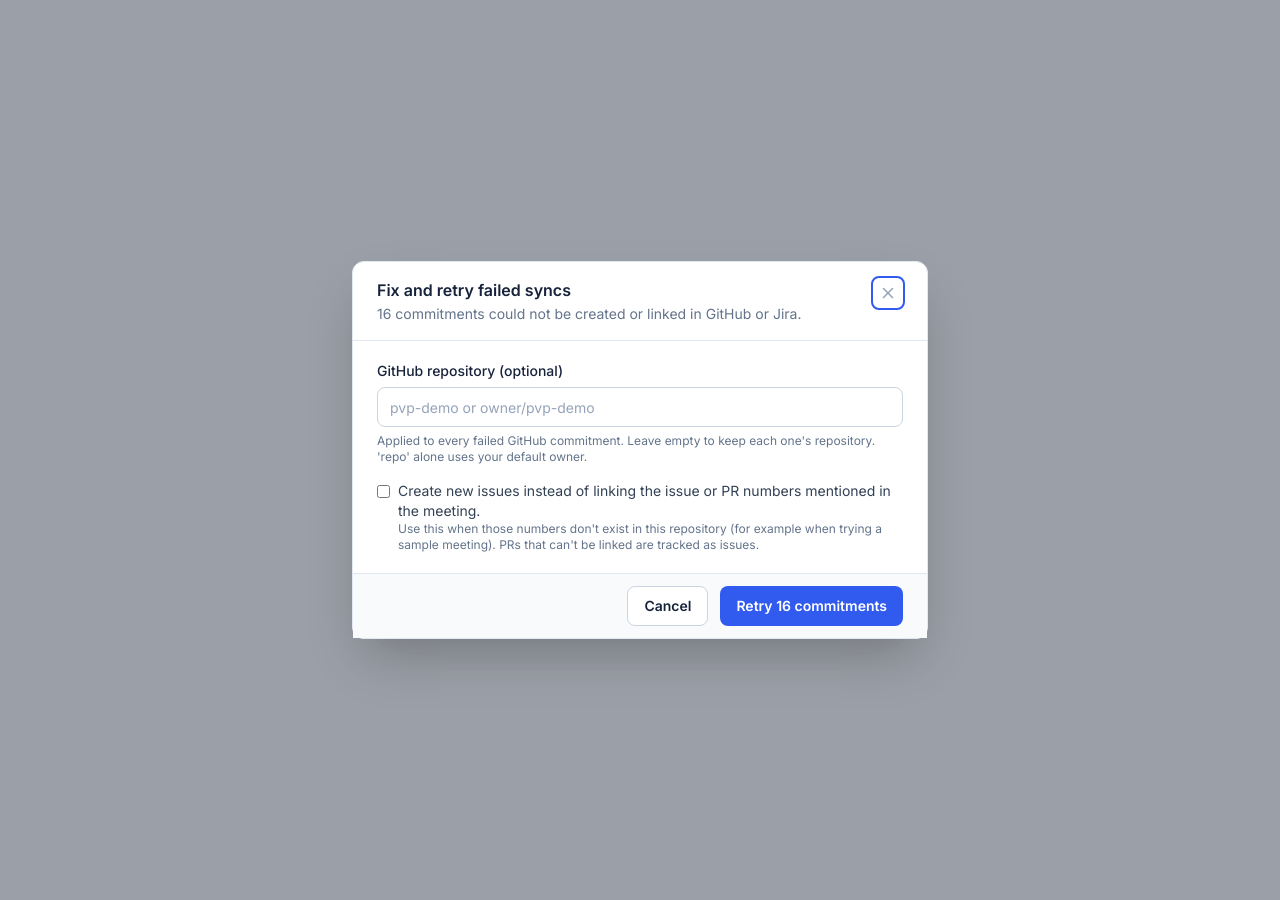
Test case: RetryFailedModal › blocks an invalid repository
The image size is (1280, 900).
Type "not a repo" into the field labelled "GitHub repository (optional)". click: [640, 407]
box: [377, 387, 903, 427]
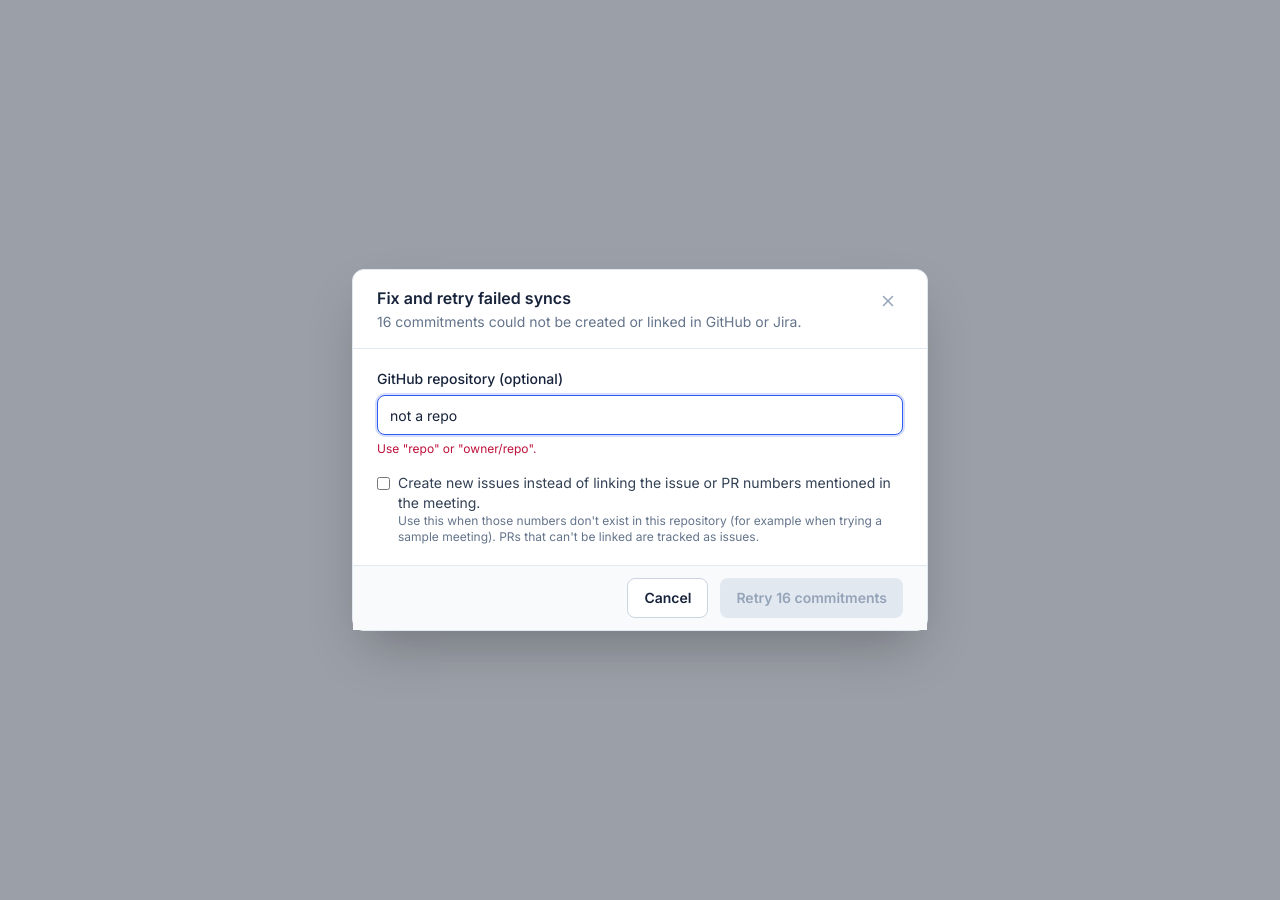
expect the text "Use \"repo\" or \"owner/repo\"." is shown: met, box [377, 441, 536, 456]
expect the button "Retry 16 commitments" is disabled: met, box [720, 578, 903, 618]
